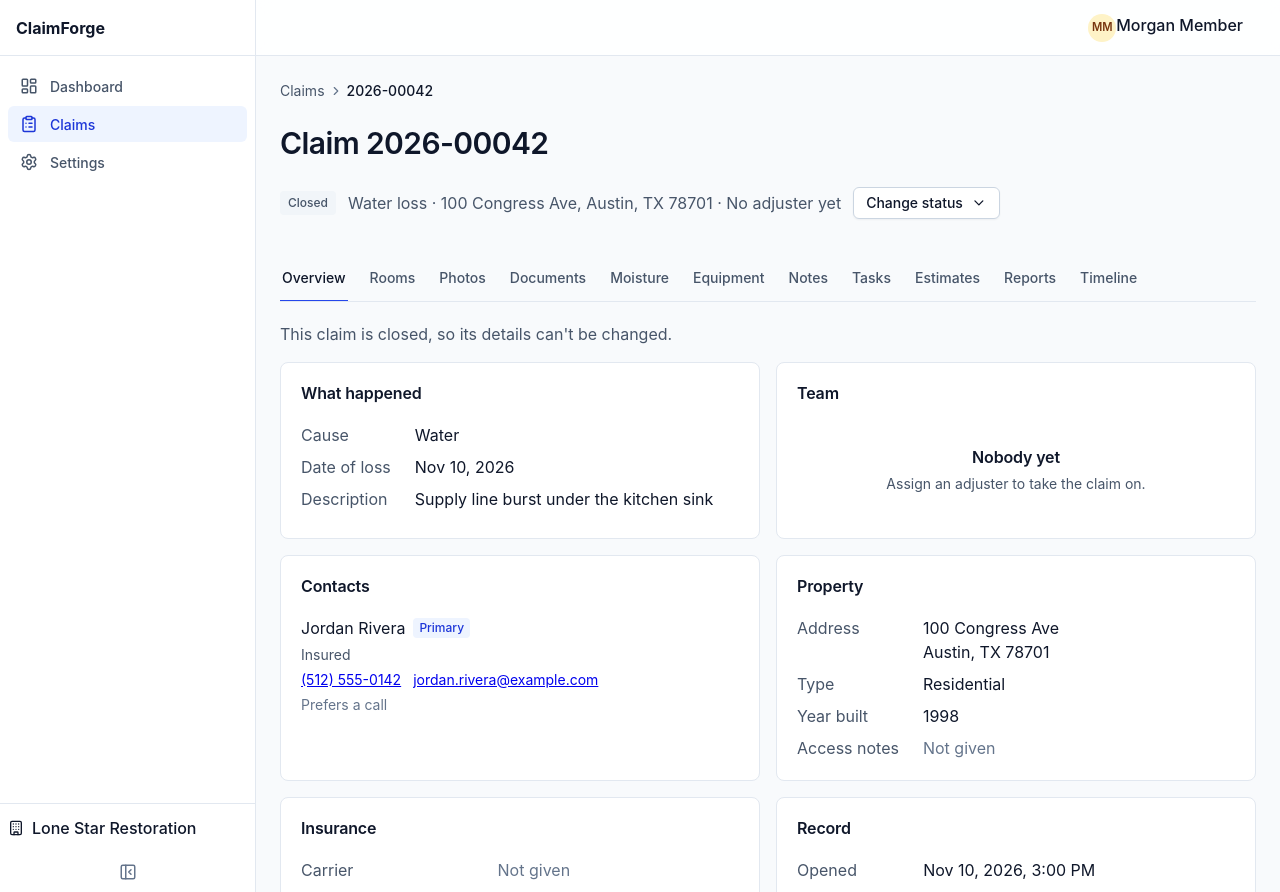
who can change it › reopening a closed claim takes the right to reopen
This screenshot has width=1280, height=892.
Click the button "Change status" at (926,202), box [853,186,1000,218]
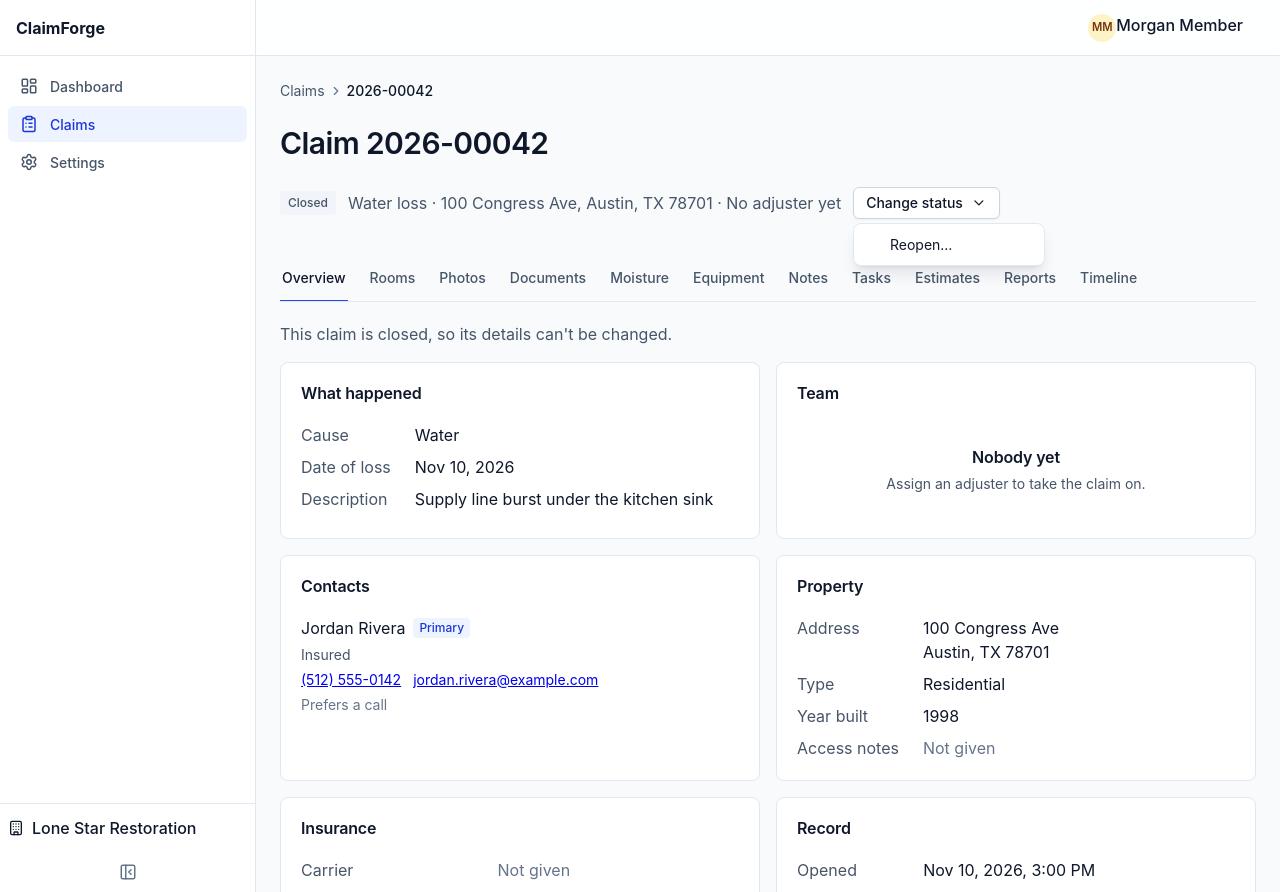
Expected: the menu item "Reopen…" is shown, [890,236,952,253]
